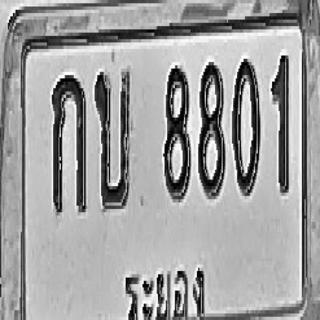A01: (51, 72, 86, 216)
A26: (94, 67, 130, 211)
N00: (232, 55, 260, 196)
N01: (271, 52, 289, 193)
N08: (198, 60, 225, 198), (163, 64, 190, 201)
P53: (119, 262, 210, 320)
